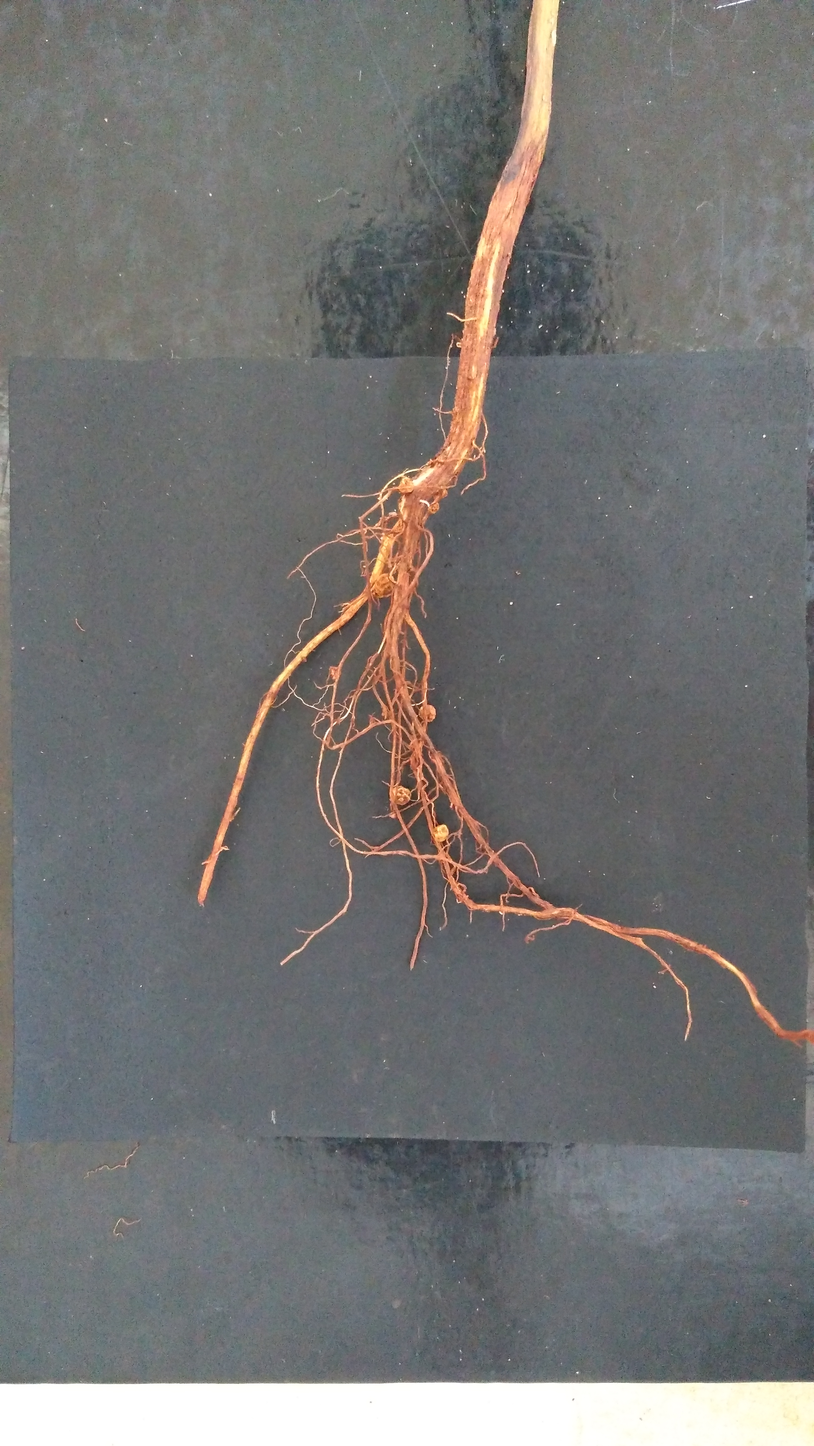nodule: (370, 573, 396, 598), (391, 784, 412, 806), (417, 704, 436, 723), (397, 475, 414, 494), (432, 824, 449, 843), (426, 501, 440, 514), (433, 489, 448, 500), (330, 666, 342, 679), (455, 342, 463, 348)
